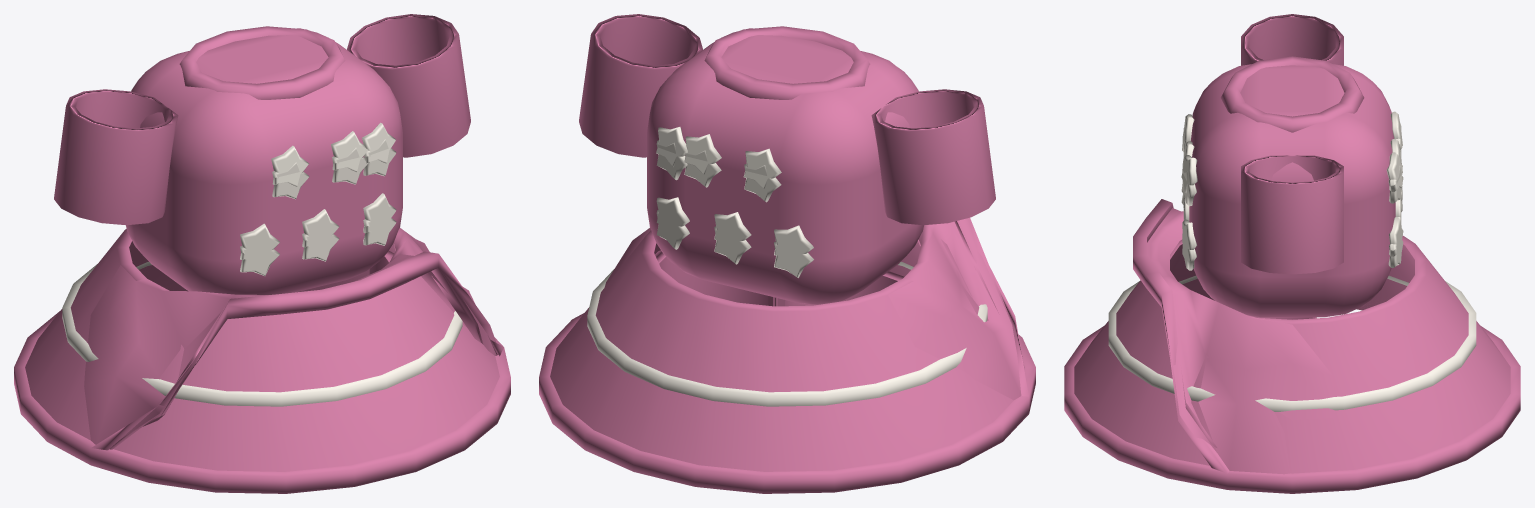
File: blossom_dress.glb
The picture shows the model from 3 angles, left to right: view 1: azimuth 30°, elevation 25°; view 2: azimuth 150°, elevation 25°; view 3: azimuth 270°, elevation 25°; orthographic projection. The views are drawn at different scales.
Parts seen in each view (by area): view 1: blossom_dress_Body, blossom_dress_Body_sit, blossom_dress_ArmL, blossom_dress_ArmR; view 2: blossom_dress_Body, blossom_dress_Body_sit, blossom_dress_ArmL, blossom_dress_ArmR, blossom_dress_LegR_sit, blossom_dress_LegL_sit; view 3: blossom_dress_Body, blossom_dress_Body_sit, blossom_dress_ArmR, blossom_dress_ArmL.
Boxes of the visible parts, x1,y1,x2,y2 form: blossom_dress_Body: [14, 26, 510, 493]; blossom_dress_Body_sit: [84, 59, 503, 450]; blossom_dress_ArmL: [54, 89, 178, 225]; blossom_dress_ArmR: [347, 14, 470, 157]; blossom_dress_Body: [539, 26, 1035, 493]; blossom_dress_Body_sit: [605, 59, 1028, 400]; blossom_dress_ArmL: [871, 89, 995, 225]; blossom_dress_ArmR: [579, 14, 702, 157]; blossom_dress_LegR_sit: [655, 250, 777, 306]; blossom_dress_LegL_sit: [773, 271, 904, 306]; blossom_dress_Body: [1064, 56, 1520, 493]; blossom_dress_Body_sit: [1133, 111, 1414, 474]; blossom_dress_ArmR: [1241, 155, 1343, 274]; blossom_dress_ArmL: [1241, 14, 1343, 65].
Bounding box in the file's own units: 0.648 × 0.5289 × 0.6414.
